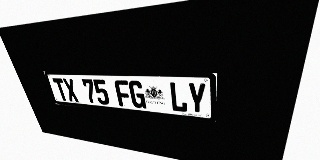5: (92, 79, 110, 105)
7: (81, 79, 99, 104)
F: (114, 80, 132, 107)
G: (128, 80, 146, 109)
L: (169, 82, 188, 113)
T: (52, 78, 69, 101)
X: (62, 78, 79, 102)
Y: (187, 82, 206, 114)
